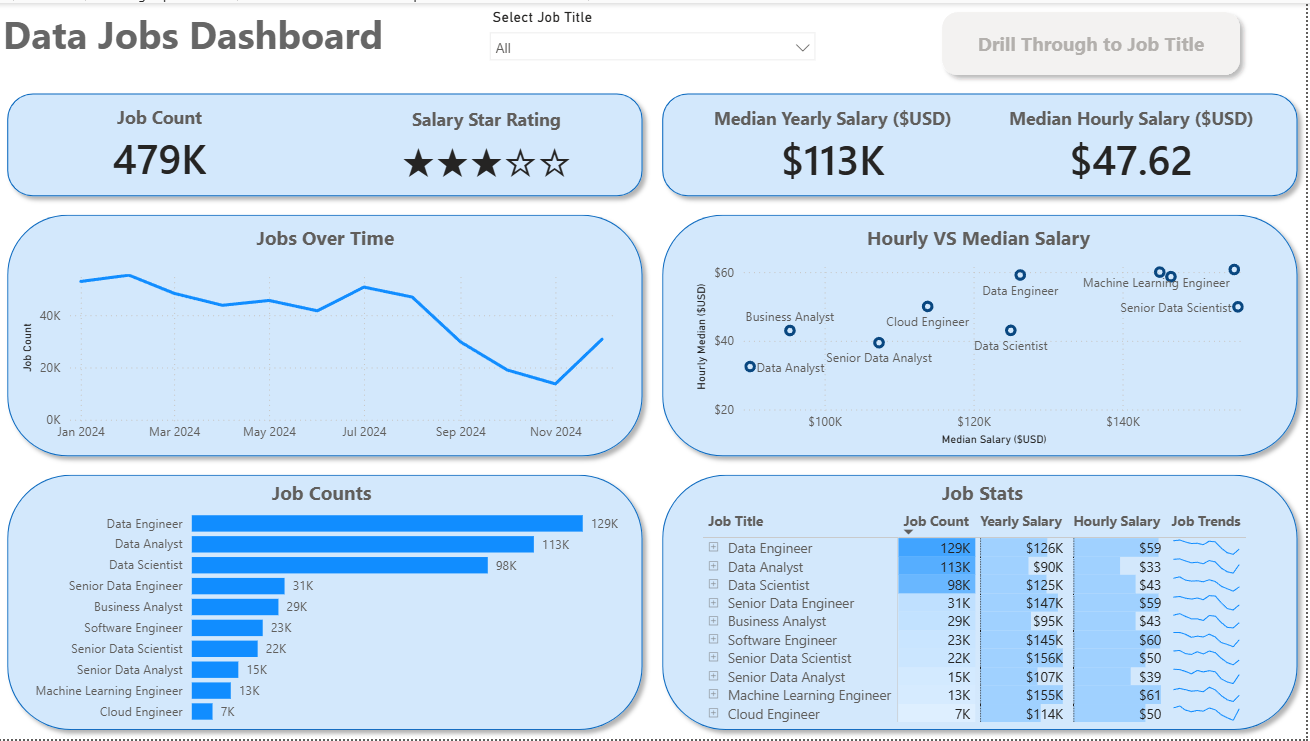

What the dashboard file says about the page in this screenshot:
{"tool":"powerbi","page":{"name":"Data Jobs Dashboard","canvas":[1280,720],"ordinal":0},"visuals":[{"type":"group","id":"g1","title":"Background","box":[0,79.5,1280.3,640.8],"z":0},{"type":"shape","box":[0,79.5,639.5,118.6],"z":0,"group":"g1"},{"type":"textbox","box":[0,0,504.2,80.1],"z":1000},{"type":"shape","box":[640.8,79.5,639.5,118.6],"z":1000,"group":"g1"},{"type":"slicer","fields":{"Values":["job_postings_flat.job_title_short"]},"box":[470.8,0,338.7,79.5],"z":2000},{"type":"shape","box":[0,198.1,639.5,254.3],"z":2000,"group":"g1"},{"type":"cardVisual","fields":{"Data":["Median(job_postings_flat.salary_year_avg)"]},"box":[655.3,80.7,322.8,118.6],"z":3000},{"type":"shape","box":[640.8,198.1,639.5,254.3],"z":3000,"group":"g1"},{"type":"cardVisual","fields":{"Data":["Median(job_postings_flat.salary_hour_avg)"]},"box":[950.3,80.7,317.9,118.6],"z":4000},{"type":"shape","box":[0,452.5,639.5,267.8],"z":4000,"group":"g1"},{"type":"cardVisual","fields":{"Data":["job_postings_flat.Salary Star Rating"]},"box":[317.2,82.1,322.8,118.6],"z":5000},{"type":"shape","box":[640.8,452.5,639.5,267.8],"z":5000,"group":"g1"},{"type":"cardVisual","fields":{"Data":["CountNonNull(job_postings_flat.job_title_short)"]},"box":[0,79.5,316.7,118.6],"z":6000},{"type":"lineChart","title":"Jobs Over Time","fields":{"Y":["CountNonNull(job_postings_flat.job_title_short)"],"Category":["job_postings_flat.job_posted_date.Variation.Date Hierarchy.Year","job_postings_flat.job_posted_date.Variation.Date Hierarchy.Quarter","job_postings_flat.job_posted_date.Variation.Date Hierarchy.Month","job_postings_flat.job_posted_date.Variation.Date Hierarchy.Day"]},"box":[18.1,217,603.8,221.2],"z":7000},{"type":"barChart","title":"Job Counts","fields":{"Category":["job_postings_flat.job_title_short"],"Y":["CountNonNull(job_postings_flat.job_title_short)"]},"box":[20.8,465.9,591.4,240.1],"z":8000},{"type":"scatterChart","title":"Hourly VS Median Salary","fields":{"X":["Median(job_postings_flat.salary_year_avg)"],"Series":["job_postings_flat.job_title_short"],"Y":["Median(job_postings_flat.salary_hour_avg)"]},"box":[677.6,217,563.5,221.2],"z":9000},{"type":"pivotTable","title":"Job Stats","fields":{"Rows":["job_postings_flat.job_title_short","job_postings_flat.job_posted_date.Variation.Date Hierarchy.Quarter"],"Values":["CountNonNull(job_postings_flat.job_title_short)","Median(job_postings_flat.salary_year_avg)","Median(job_postings_flat.salary_hour_avg)","SparklineData(CountNonNull(job_postings_flat.job_title_short)_[job_postings_flat.job_posted_date.Variation.Date Hierarch"]},"box":[684.8,465.9,556.4,254.3],"z":10000},{"type":"actionButton","box":[914.7,0,309.4,79.5],"z":11000}]}

Visuals, with their boxes in screenshot pixels (x1, y1, x2, y2), scaled from the page's 1280x720 canvas onto the 1310x741 screenshot:
"Background" group: select_region(0, 82, 1309, 740)
shape: select_region(0, 82, 654, 204)
textbox: select_region(0, 0, 516, 82)
shape: select_region(656, 82, 1309, 204)
slicer - job_postings_flat.job_title_short: select_region(482, 0, 828, 82)
shape: select_region(0, 204, 654, 466)
cardVisual - Median(job_postings_flat.salary_year_avg): select_region(671, 83, 1001, 205)
shape: select_region(656, 204, 1309, 466)
cardVisual - Median(job_postings_flat.salary_hour_avg): select_region(973, 83, 1298, 205)
shape: select_region(0, 466, 654, 740)
cardVisual - job_postings_flat.Salary Star Rating: select_region(325, 84, 655, 207)
shape: select_region(656, 466, 1309, 740)
cardVisual - CountNonNull(job_postings_flat.job_title_short): select_region(0, 82, 324, 204)
"Jobs Over Time" lineChart: select_region(19, 223, 636, 451)
"Job Counts" barChart: select_region(21, 479, 627, 727)
"Hourly VS Median Salary" scatterChart: select_region(693, 223, 1270, 451)
"Job Stats" pivotTable: select_region(701, 479, 1270, 740)
actionButton: select_region(936, 0, 1253, 82)
